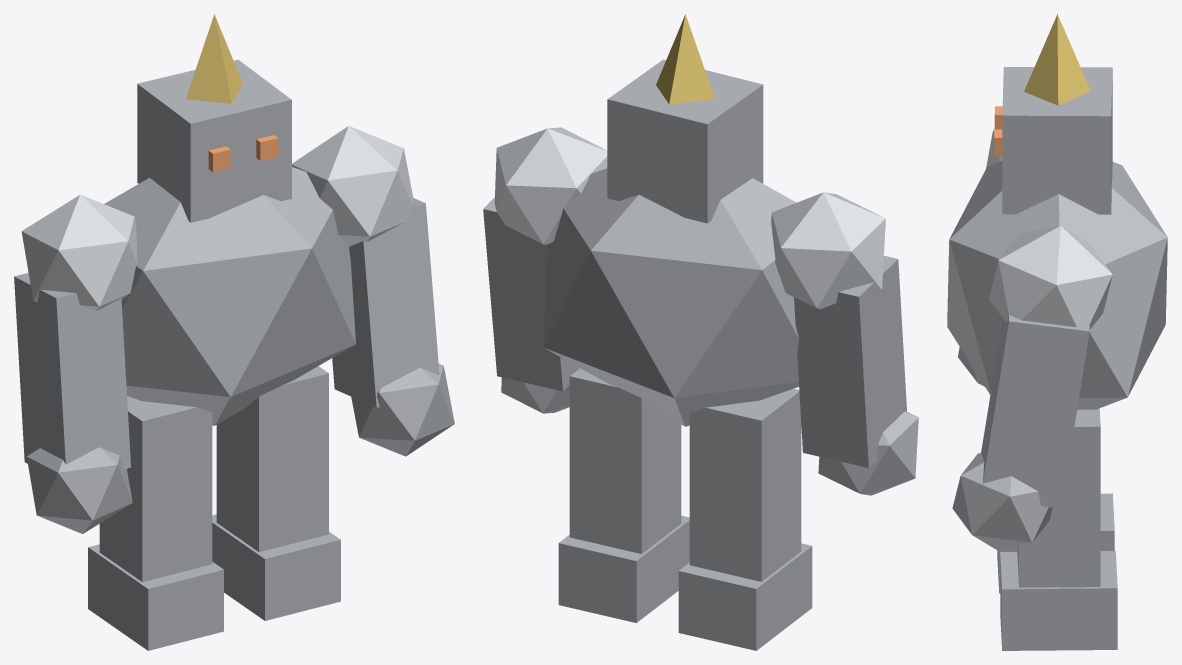
File: npcpose_golem_idle_04.glb
3 renders of one model, left to right at view 1: azimuth 30°, elevation 25°; view 2: azimuth 150°, elevation 25°; view 3: azimuth 270°, elevation 25°, orthographic.
Parts seen in each view (by area): view 1: npcpose; view 2: npcpose; view 3: npcpose.
Boxes of the visible parts, left/top/right/bottom form: npcpose: left=14, top=14, right=454, bottom=650; npcpose: left=483, top=14, right=918, bottom=650; npcpose: left=947, top=14, right=1167, bottom=650.
Size of the model in its own units: 1.38 by 1.91 by 0.649.
